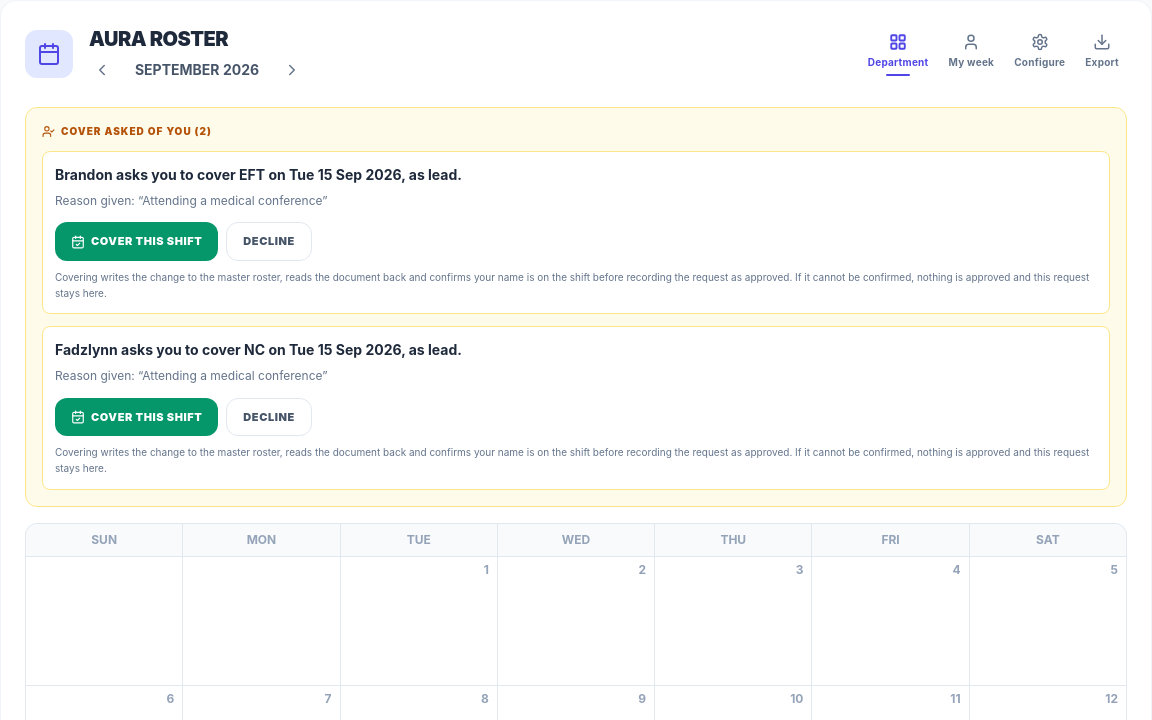
Test: accepting runs the verified sequence and only then reports success › answers one request without touching the other
expect the text "Cover asked of you (2)" is shown: met, box [42,125,212,138]
Click the 1st button "Cover this shift". click: (137,242)
box: [55,222,218,261]
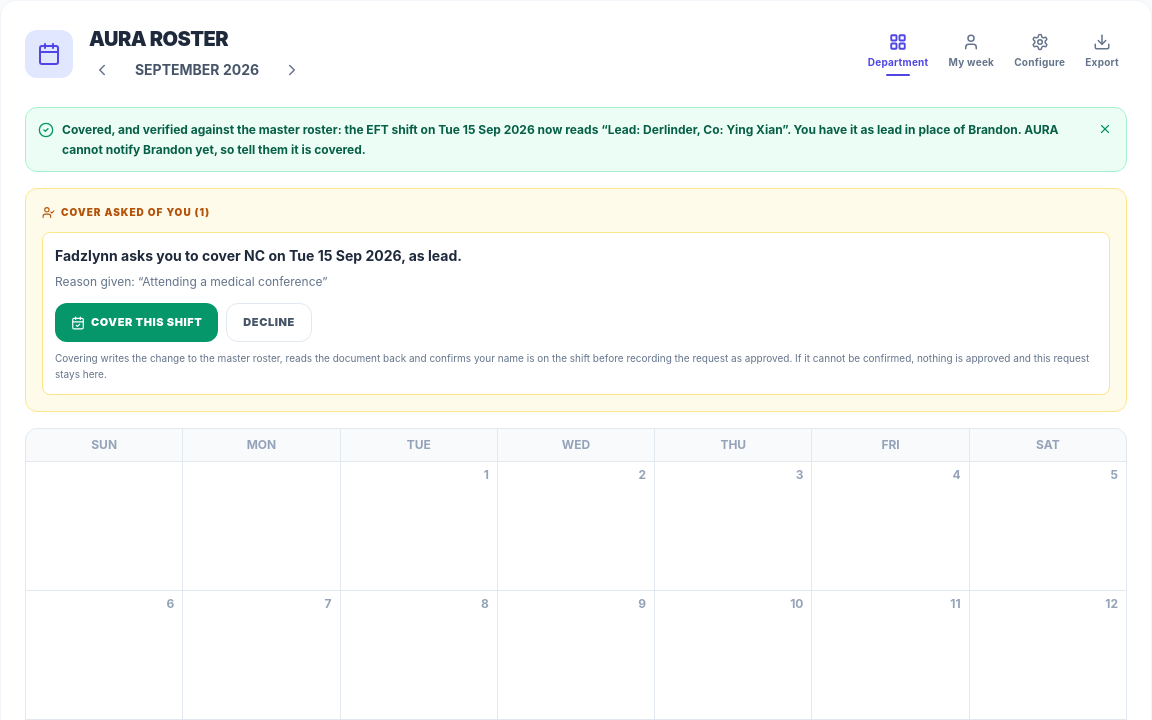
expect the text "Cover asked of you (1)" is shown: met, box [42,206,210,219]
